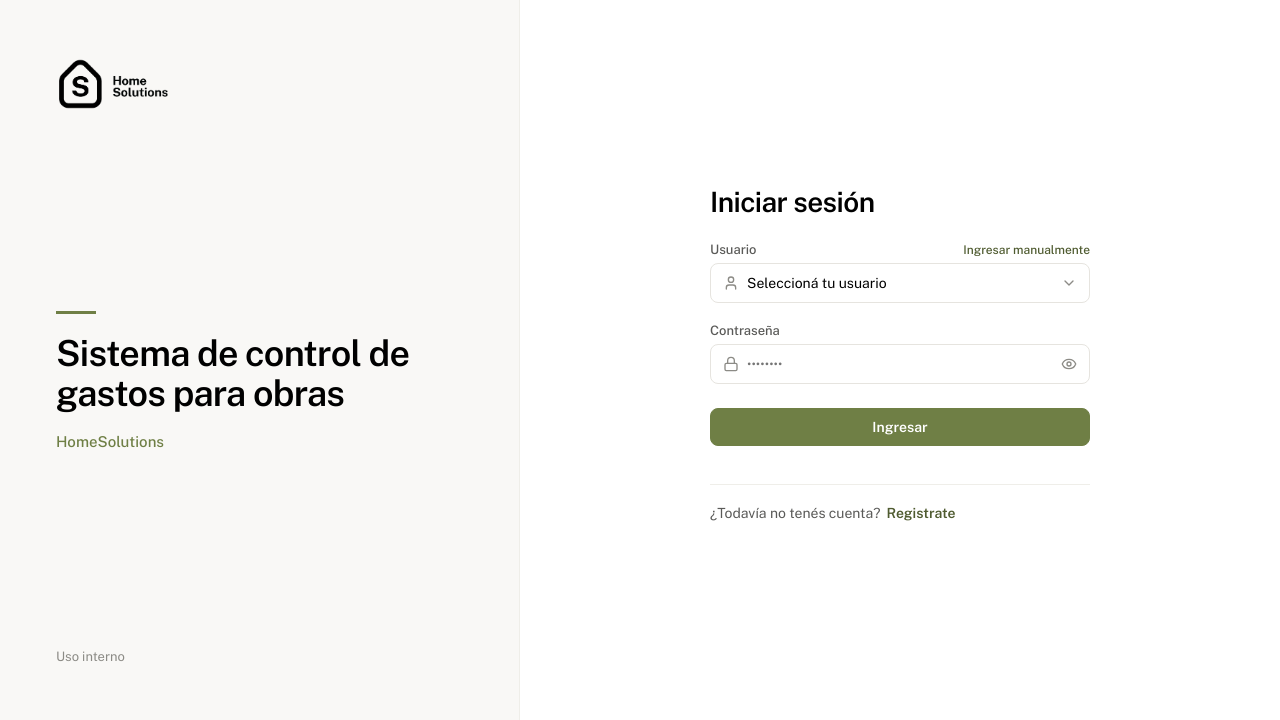
Test: Login › permite escribir el nombre de usuario a mano (cuentas fuera del combo público)
Later steps or results of the test are not shown.
Click the button "Ingresar manualmente".
click(1027, 250)  # box x1=963 y1=243 x2=1090 y2=257
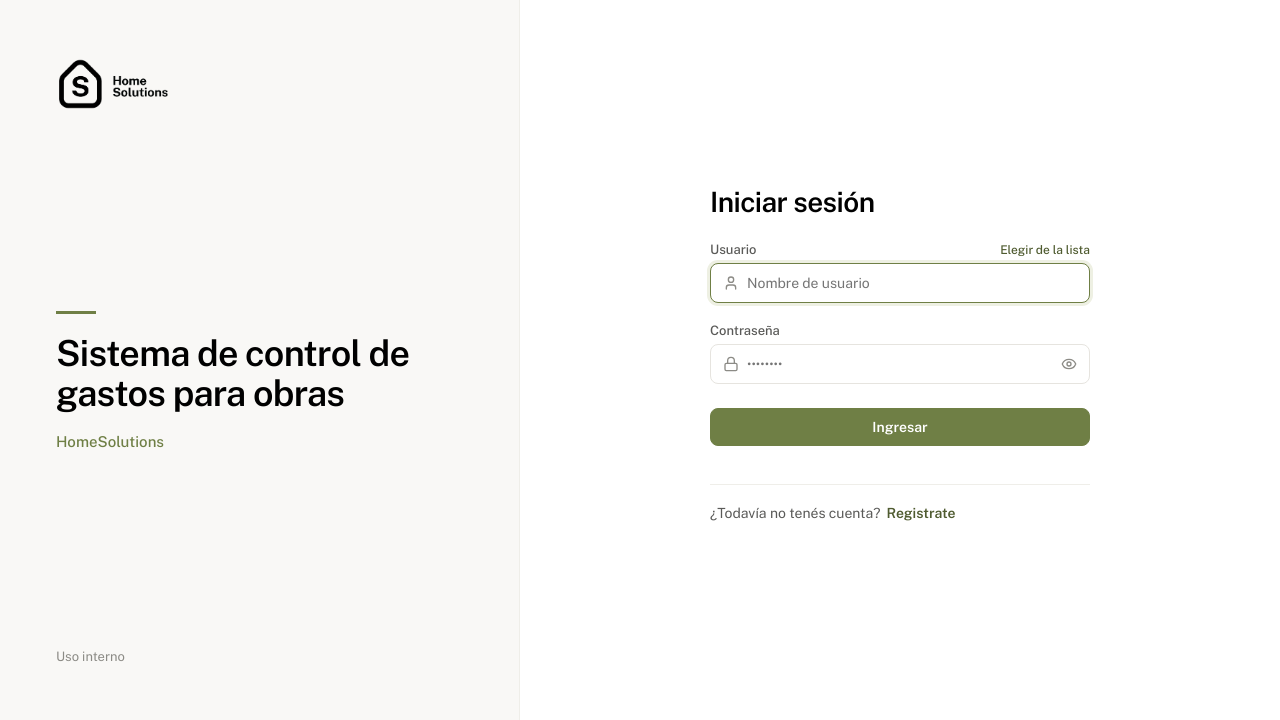
expect the dropdown is gone: met
